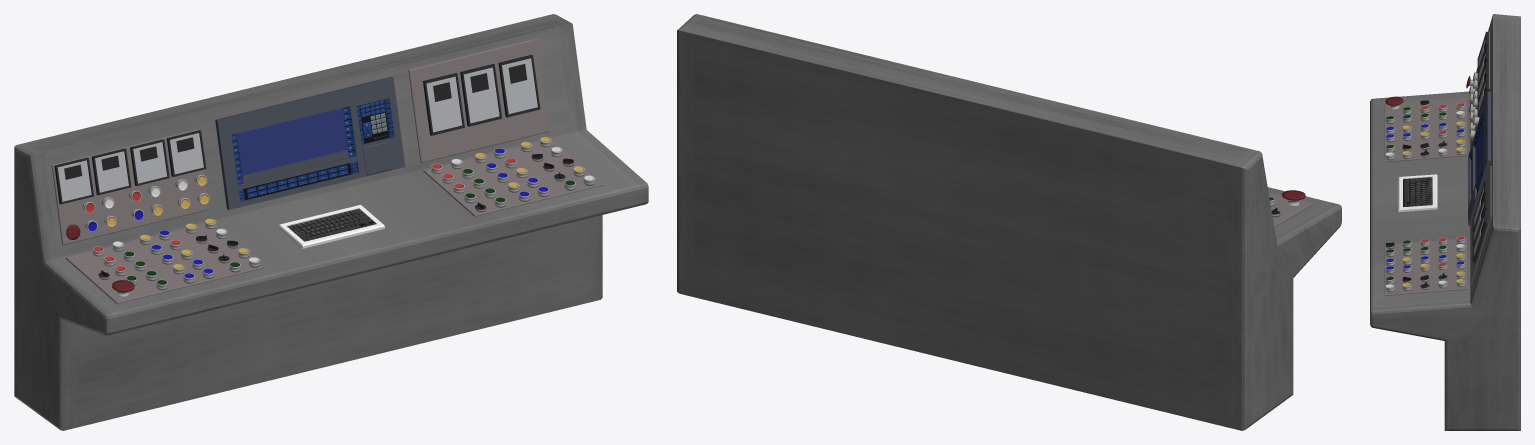
Rendered from Console.fbx.
3 views of the same model, side by side, from view 1: azimuth 30°, elevation 25°; view 2: azimuth 150°, elevation 25°; view 3: azimuth 270°, elevation 25° (orthographic). The views are drawn at different scales.
Visible parts, largest first — view 1: Console, Screen, SmallScreen, NormalButton, KeyBoard, NormalSwitch; view 2: Console; view 3: Console, NormalButton, Screen, SmallScreen, KeyBoard, NormalSwitch, BigButton.
Boxes of the visible parts, <box> form: Console: <box>14,14,648,430</box>; Screen: <box>215,77,405,209</box>; SmallScreen: <box>54,55,540,204</box>; NormalButton: <box>82,137,595,290</box>; KeyBoard: <box>278,205,384,248</box>; NormalSwitch: <box>98,153,573,280</box>; Console: <box>677,14,1341,430</box>; Console: <box>1370,14,1520,430</box>; NormalButton: <box>1385,72,1479,292</box>; Screen: <box>1468,91,1490,226</box>; SmallScreen: <box>1472,31,1489,262</box>; KeyBoard: <box>1398,174,1437,212</box>; NormalSwitch: <box>1385,100,1447,289</box>; BigButton: <box>1385,76,1473,109</box>.
Bounding box in the file's own units: 340 × 152 × 101.
